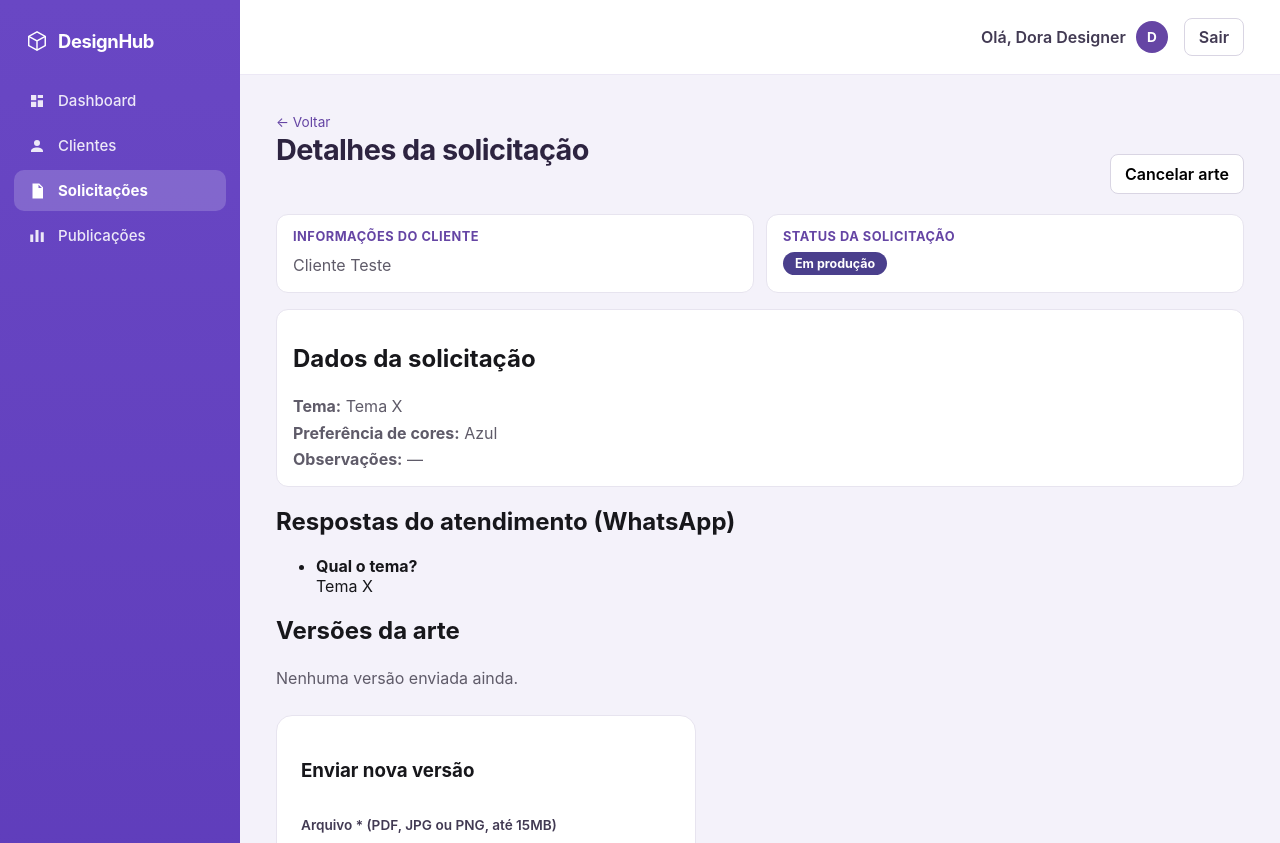
Test case: SolicitacaoDetailPage (RF005) › rodada correções (item 12/30): Cancelar arte › mostra a mensagem de erro do backend quando o cancelamento falha
Click the button "Cancelar arte": (1177, 174) [1110,154,1244,194]
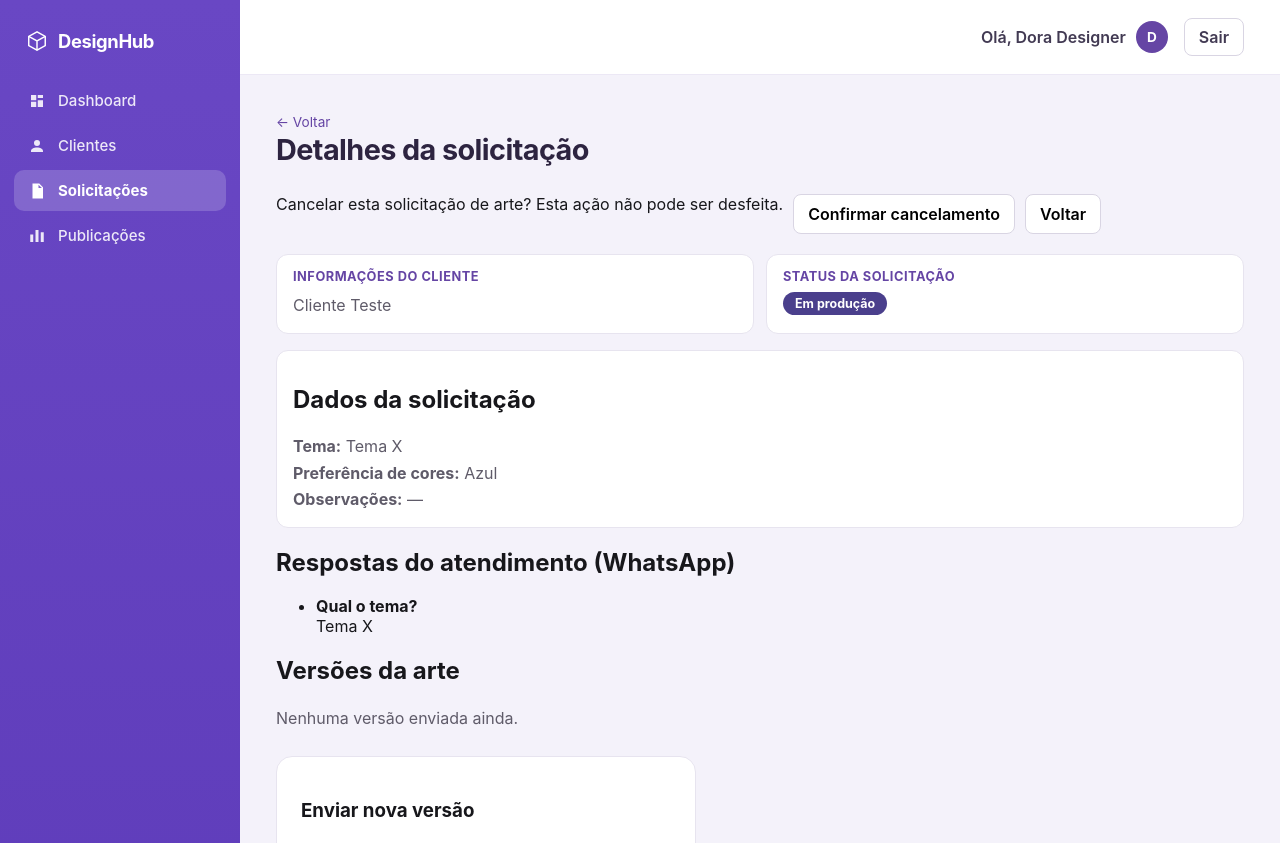
Click the button "Confirmar cancelamento": (904, 214) [793,194,1015,234]
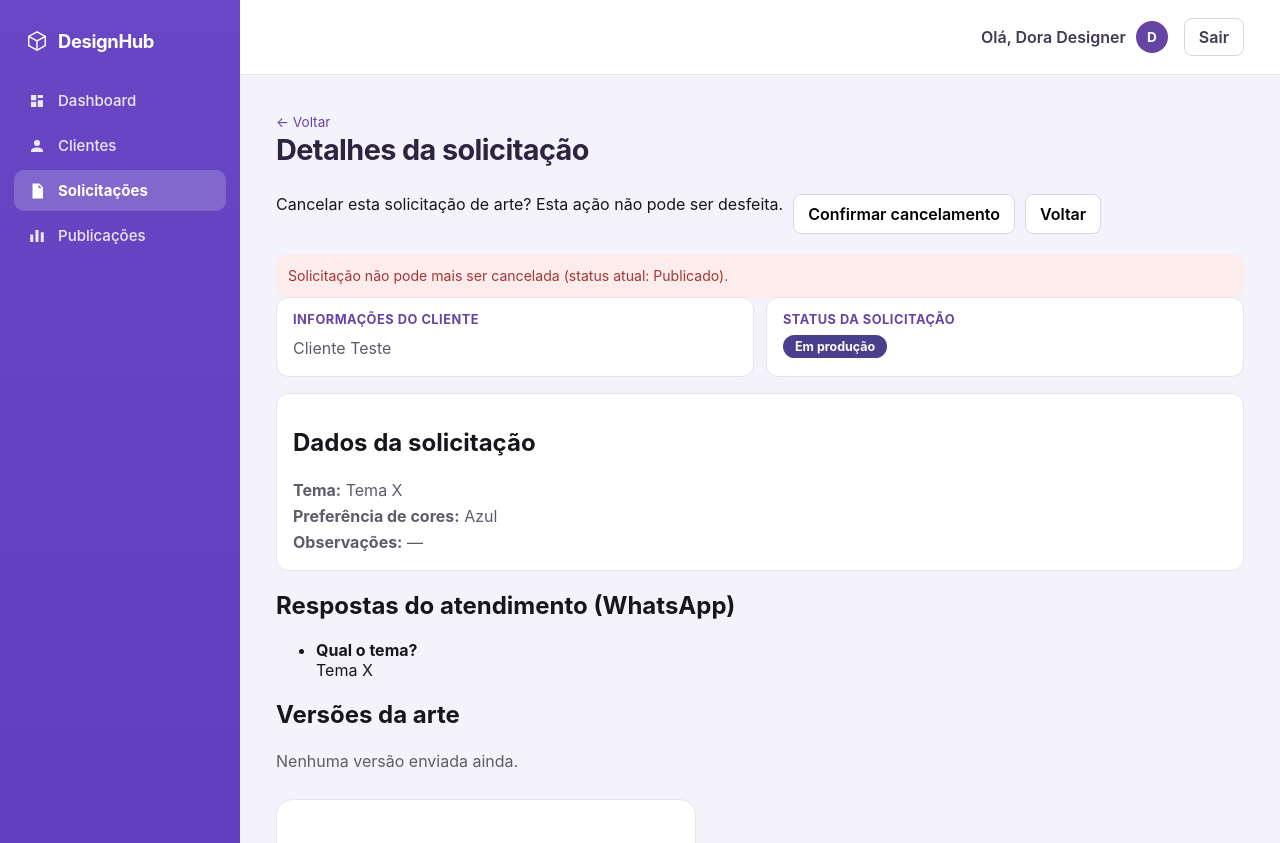
Result: the text "Solicitação não pode mais ser cancelada (status atual: Publicado)." is shown at [276,254,1244,297]
